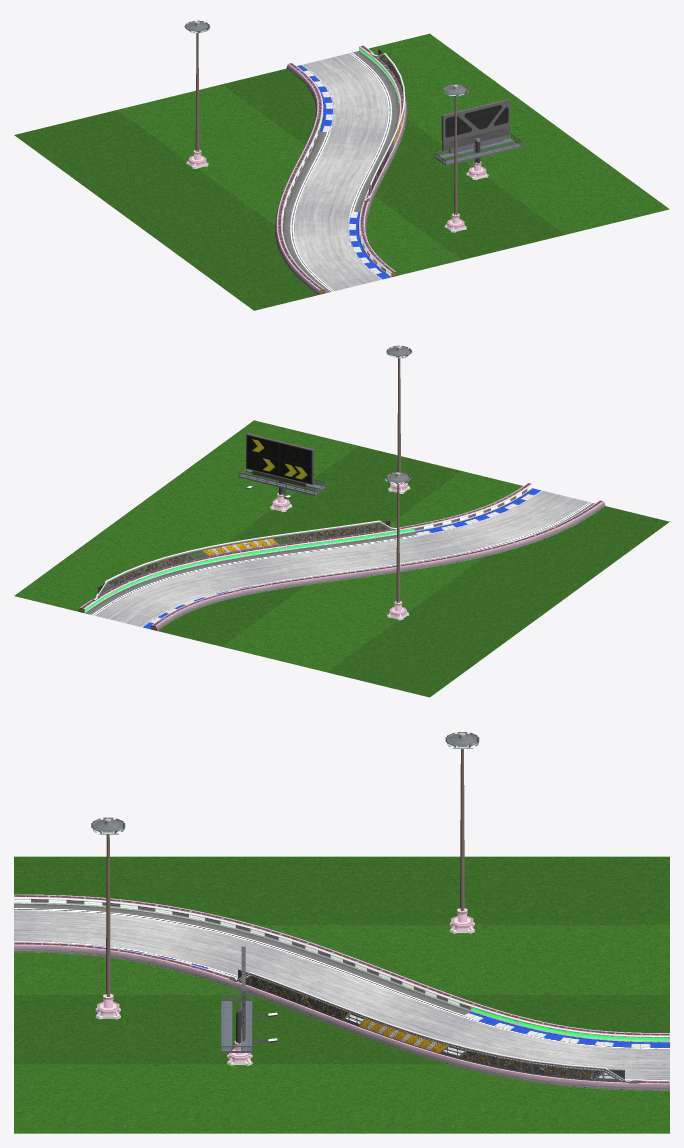
The picture shows the model from 3 angles, top to bottom: view 1: azimuth 30°, elevation 25°; view 2: azimuth 150°, elevation 25°; view 3: azimuth 270°, elevation 25°; orthographic projection. The views are drawn at different scales.
Visible parts, largest first — view 1: narrow_grass1, nar_road_straight1, nar_wall_corner_drift4, prop_billboard_right, corner_arrows_steering_large2, pro_floodlight_overhead_1, pro_floodlight_overhead; view 2: narrow_grass1, nar_road_straight1, nar_wall_corner_drift4, prop_billboard_right, corner_arrows_steering_large2, pro_floodlight_overhead, pro_floodlight_overhead_1; view 3: narrow_grass1, nar_road_straight1, nar_wall_corner_drift4, corner_arrows_steering_large2, prop_billboard_right, pro_floodlight_overhead, pro_floodlight_overhead_1.
Part boxes in pixels (bbox=[...]): narrow_grass1: bbox=[14, 33, 669, 310]; nar_road_straight1: bbox=[282, 51, 399, 293]; nar_wall_corner_drift4: bbox=[275, 45, 407, 294]; prop_billboard_right: bbox=[434, 99, 522, 167]; corner_arrows_steering_large2: bbox=[364, 48, 405, 201]; pro_floodlight_overhead_1: bbox=[443, 84, 468, 215]; pro_floodlight_overhead: bbox=[184, 20, 210, 151]; narrow_grass1: bbox=[14, 420, 669, 697]; nar_road_straight1: bbox=[85, 488, 594, 629]; nar_wall_corner_drift4: bbox=[78, 483, 605, 630]; prop_billboard_right: bbox=[238, 433, 326, 498]; corner_arrows_steering_large2: bbox=[92, 520, 400, 600]; pro_floodlight_overhead: bbox=[385, 471, 411, 602]; pro_floodlight_overhead_1: bbox=[386, 345, 411, 472]; narrow_grass1: bbox=[14, 856, 669, 1133]; nar_road_straight1: bbox=[14, 903, 669, 1080]; nar_wall_corner_drift4: bbox=[14, 894, 669, 1090]; corner_arrows_steering_large2: bbox=[229, 969, 641, 1083]; prop_billboard_right: bbox=[221, 946, 277, 1052]; pro_floodlight_overhead: bbox=[445, 732, 479, 911]; pro_floodlight_overhead_1: bbox=[91, 817, 125, 996].
Bounding box in the file's own units: 12800 × 4184 × 12800.
